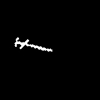double_crochet: (15, 38, 51, 50)
